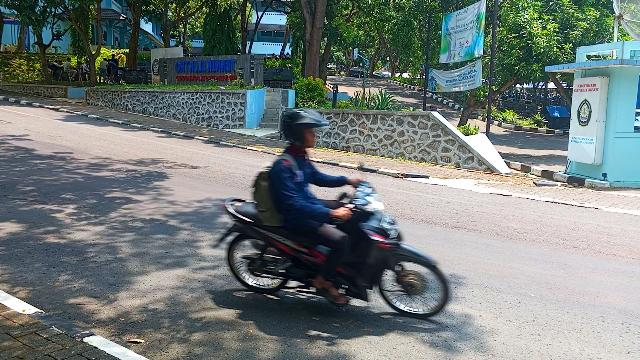helm: (277, 107, 331, 152)
motor: (211, 160, 455, 323)
